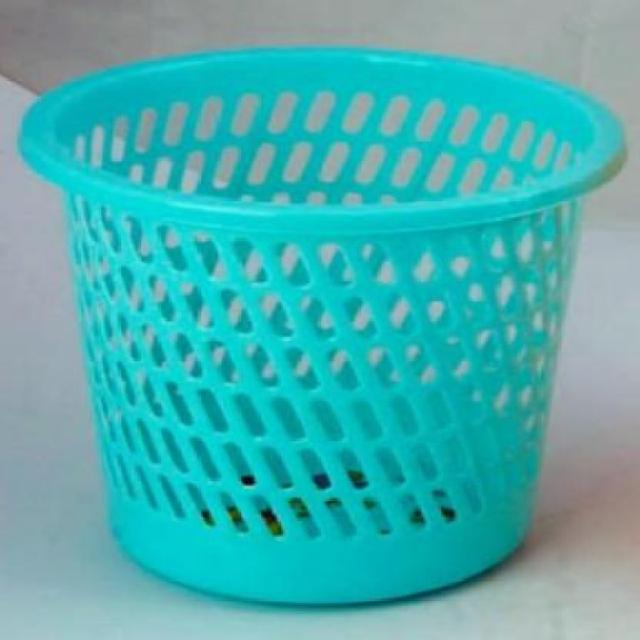dustbin: (12, 37, 636, 615)
